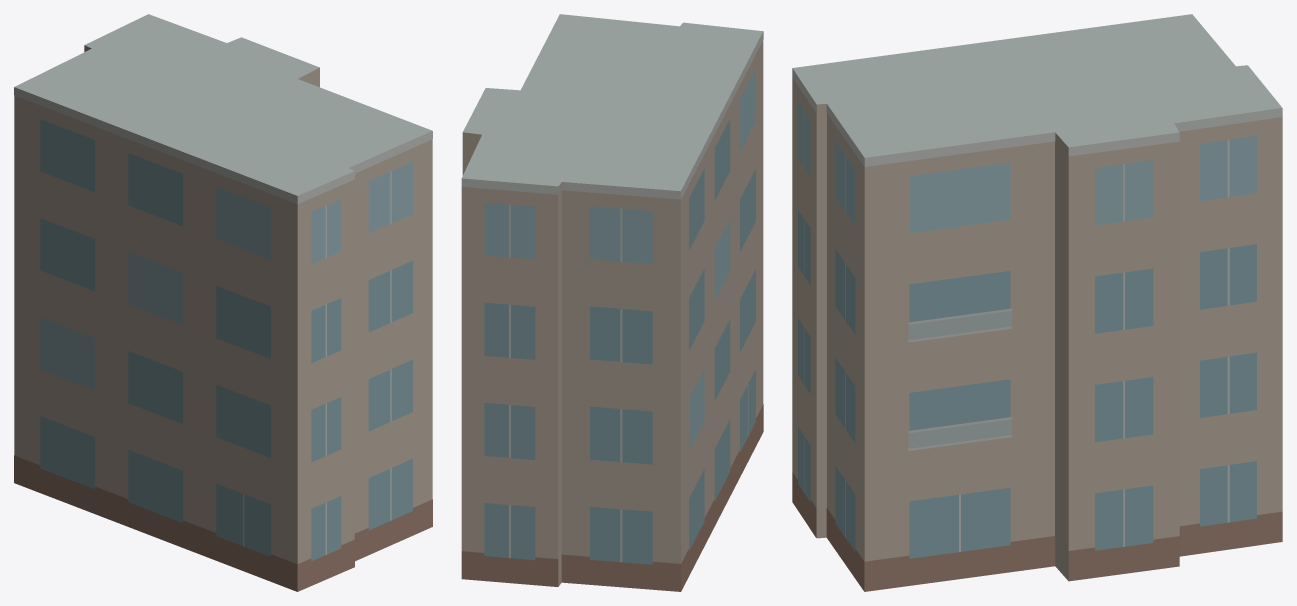
File: survey-upis-32941252.glb
3 views of the same model, side by side, from view 1: azimuth 30°, elevation 25°; view 2: azimuth 150°, elevation 25°; view 3: azimuth 270°, elevation 25° (orthographic). The views are drawn at different scales.
Parts seen in each view (by area): view 1: survey-upis-32941252.tmp; view 2: survey-upis-32941252.tmp; view 3: survey-upis-32941252.tmp.
Boxes of the visible parts, left/top/right/bottom form: survey-upis-32941252.tmp: left=14, top=14, right=432, bottom=591; survey-upis-32941252.tmp: left=461, top=14, right=763, bottom=591; survey-upis-32941252.tmp: left=792, top=14, right=1282, bottom=591.
Bounding box in the file's own units: 8.3 × 11.65 × 11.94.
